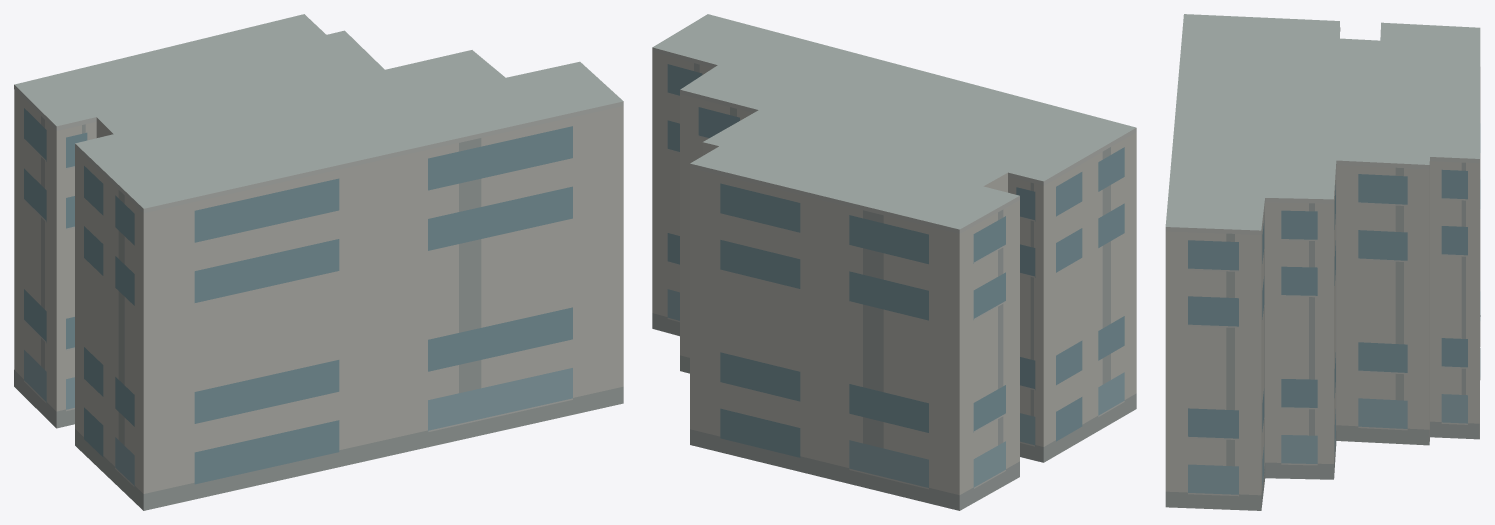
Rendered from survey-upis-32902927.glb.
3 renders of one model, left to right at view 1: azimuth 30°, elevation 25°; view 2: azimuth 150°, elevation 25°; view 3: azimuth 270°, elevation 25°, orthographic. The views are drawn at different scales.
Visible parts, largest first — view 1: survey-upis-32902927.tmp; view 2: survey-upis-32902927.tmp; view 3: survey-upis-32902927.tmp.
Part boxes in pixels (x1,y1,x2,y2): survey-upis-32902927.tmp: (14, 14, 623, 510); survey-upis-32902927.tmp: (652, 14, 1136, 510); survey-upis-32902927.tmp: (1165, 14, 1480, 510).
Size of the model in its own units: 26.02 by 15.7 by 15.99.
